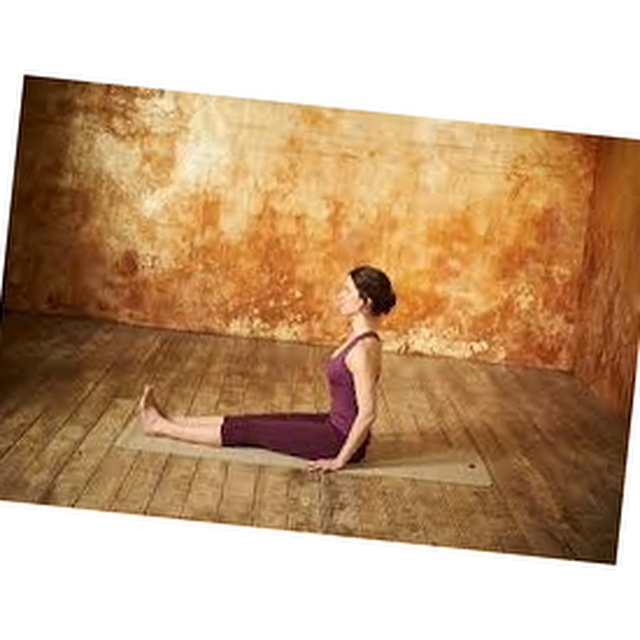Staff_Pose: (138, 265, 396, 472)
